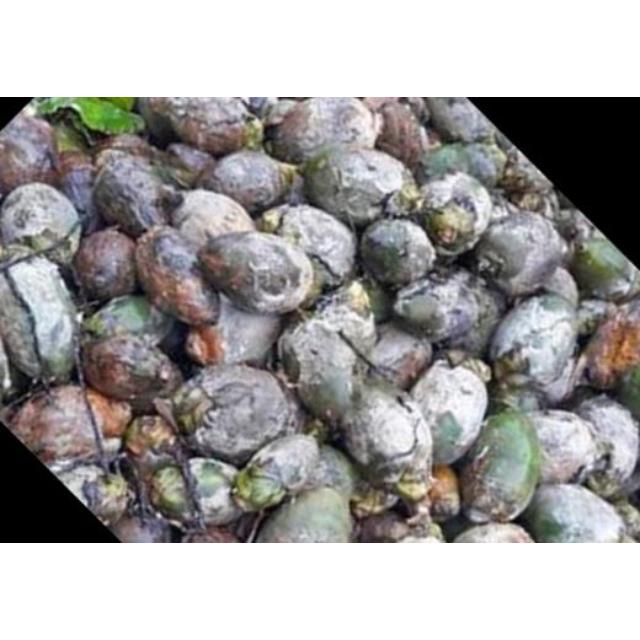damaged: (276, 294, 384, 421), (175, 362, 302, 466), (0, 255, 84, 390), (336, 385, 436, 493), (199, 228, 317, 316), (456, 408, 544, 524), (132, 226, 226, 328), (7, 385, 119, 469), (486, 293, 580, 393), (300, 146, 412, 228), (471, 210, 569, 300), (406, 361, 489, 467), (263, 204, 357, 294), (91, 154, 183, 240), (79, 330, 183, 406), (387, 266, 487, 344), (230, 432, 324, 514), (568, 395, 640, 497), (148, 456, 245, 530), (264, 98, 376, 162), (193, 296, 285, 372), (411, 171, 493, 255), (0, 181, 82, 265), (202, 148, 302, 216), (152, 97, 264, 157), (521, 482, 627, 542), (523, 409, 601, 489), (168, 188, 260, 250), (253, 486, 354, 542), (358, 218, 438, 288), (83, 293, 177, 352), (0, 113, 62, 197), (72, 228, 140, 302), (568, 234, 638, 302), (363, 325, 433, 389), (418, 141, 504, 189), (418, 98, 496, 146), (80, 466, 132, 528), (109, 511, 171, 543)
